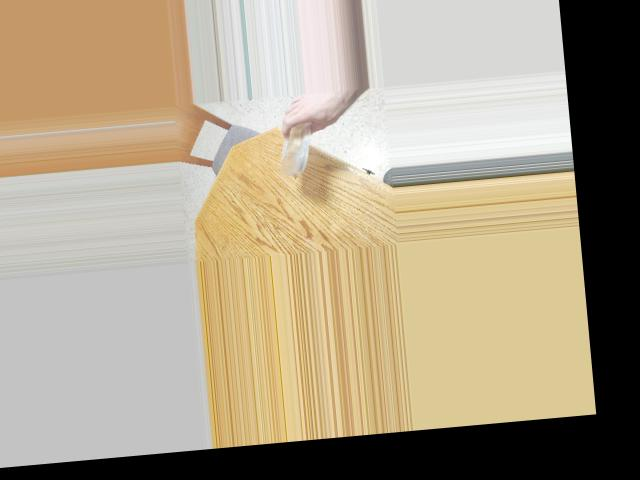cheese: (276, 122, 324, 172)
